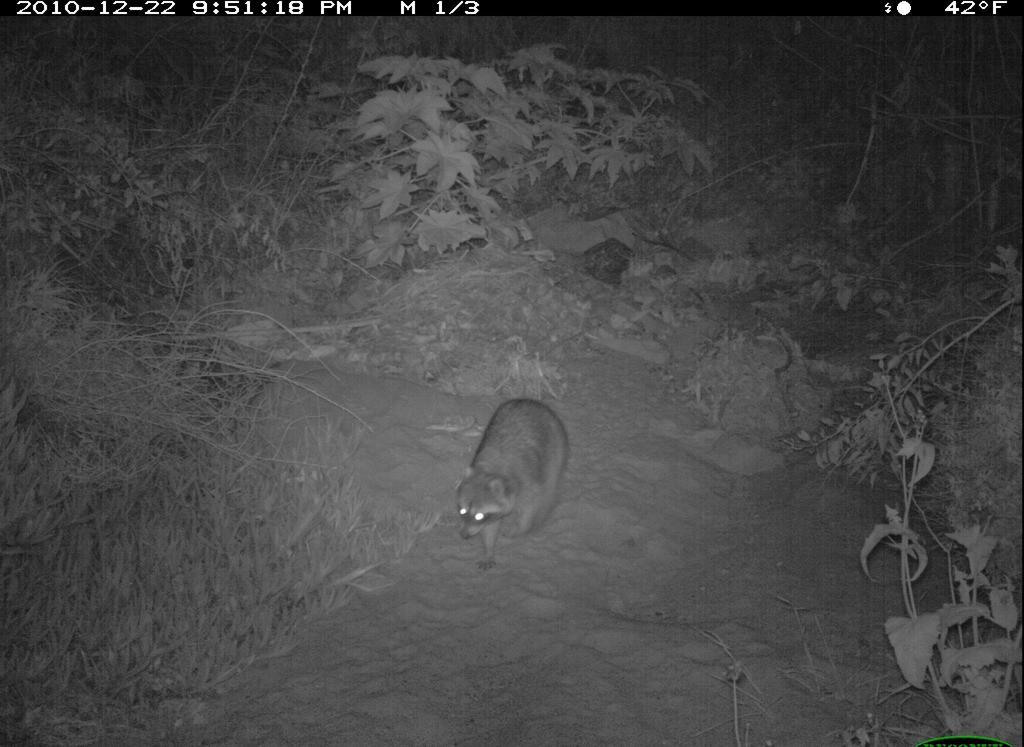raccoon: (446, 387, 579, 573)
